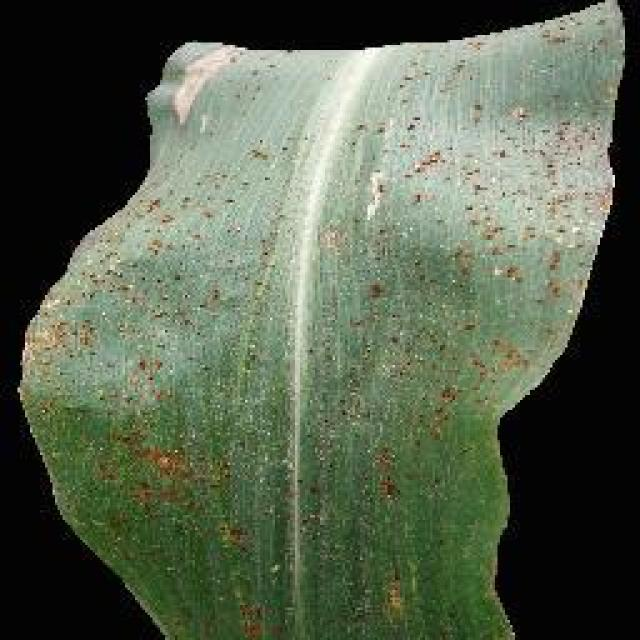Corn Common Rust: (56, 100, 640, 640)
